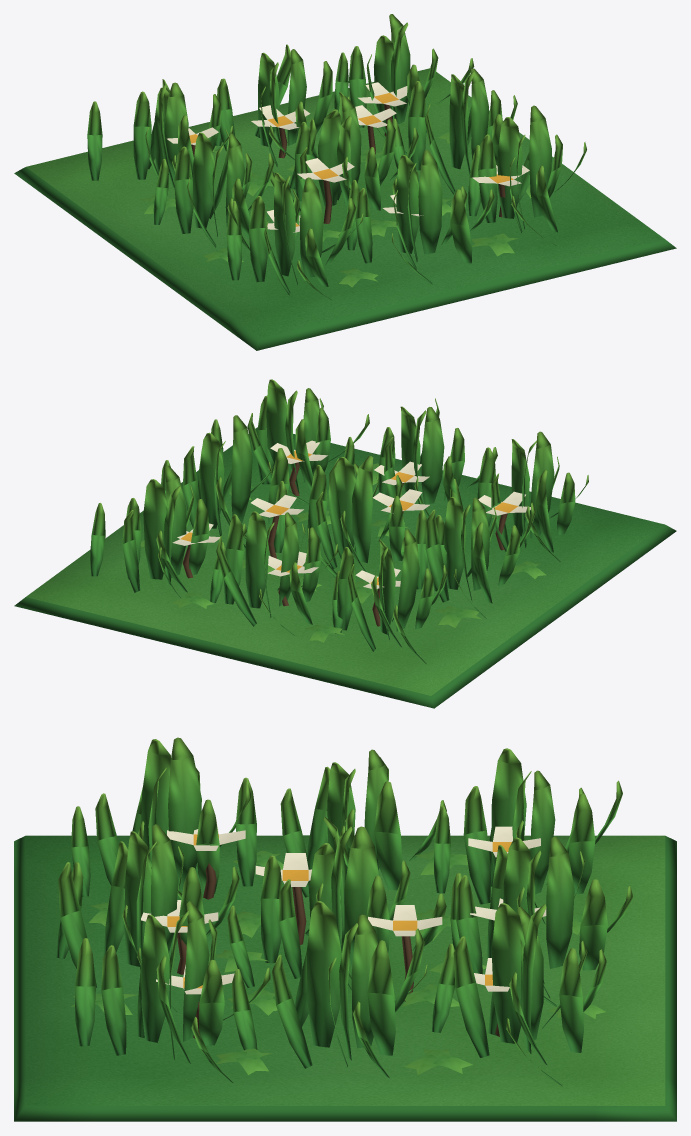
The model's file is 08-cesped.fbx.
3 views of the same model, one above another, from view 1: azimuth 30°, elevation 25°; view 2: azimuth 150°, elevation 25°; view 3: azimuth 270°, elevation 25° (orthographic). The views are drawn at different scales.
Parts seen in each view (by area): view 1: Grass_Patch_Ground, Grass_Lush_Carpet, Grass_Wildflower_Accents, Grass_Clover_Groundcover; view 2: Grass_Lush_Carpet, Grass_Patch_Ground, Grass_Wildflower_Accents, Grass_Clover_Groundcover; view 3: Grass_Patch_Ground, Grass_Lush_Carpet, Grass_Wildflower_Accents, Grass_Clover_Groundcover.
Part boxes in pixels (x1=…): Grass_Patch_Ground: x1=14, y1=68, x2=676, y2=350; Grass_Lush_Carpet: x1=87, y1=14, x2=586, y2=299; Grass_Wildflower_Accents: x1=167, y1=82, x2=529, y2=241; Grass_Clover_Groundcover: x1=139, y1=111, x2=531, y2=287; Grass_Lush_Carpet: x1=90, y1=379, x2=588, y2=663; Grass_Patch_Ground: x1=14, y1=427, x2=676, y2=708; Grass_Wildflower_Accents: x1=172, y1=440, x2=530, y2=626; Grass_Clover_Groundcover: x1=140, y1=463, x2=546, y2=642; Grass_Patch_Ground: x1=14, y1=835, x2=676, y2=1121; Grass_Lush_Carpet: x1=56, y1=737, x2=632, y2=1086; Grass_Wildflower_Accents: x1=141, y1=818, x2=546, y2=1038; Grass_Clover_Groundcover: x1=70, y1=849, x2=605, y2=1074.
Size of the model in its own units: 2 by 0.5333 by 2.
1 material, 1 textured.
